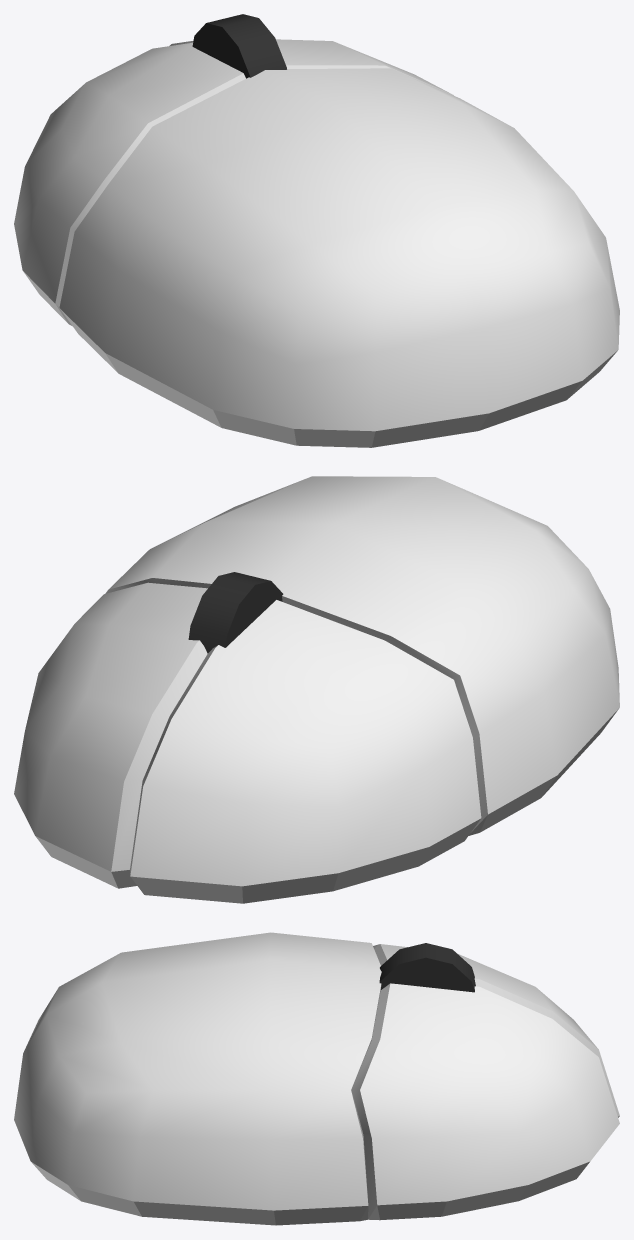
The model's file is M_Mouse.FBX.
The picture shows the model from 3 angles, top to bottom: view 1: azimuth 30°, elevation 25°; view 2: azimuth 150°, elevation 25°; view 3: azimuth 270°, elevation 25°; orthographic projection. The views are drawn at different scales.
Parts seen in each view (by area): view 1: Box039; view 2: Box039; view 3: Box039.
Part boxes in pixels (<box>): Box039: <box>14,14,619,447</box>; Box039: <box>14,476,619,903</box>; Box039: <box>14,932,619,1225</box>.
Bounding box in the file's own units: 6.34 × 8.94 × 3.14.
